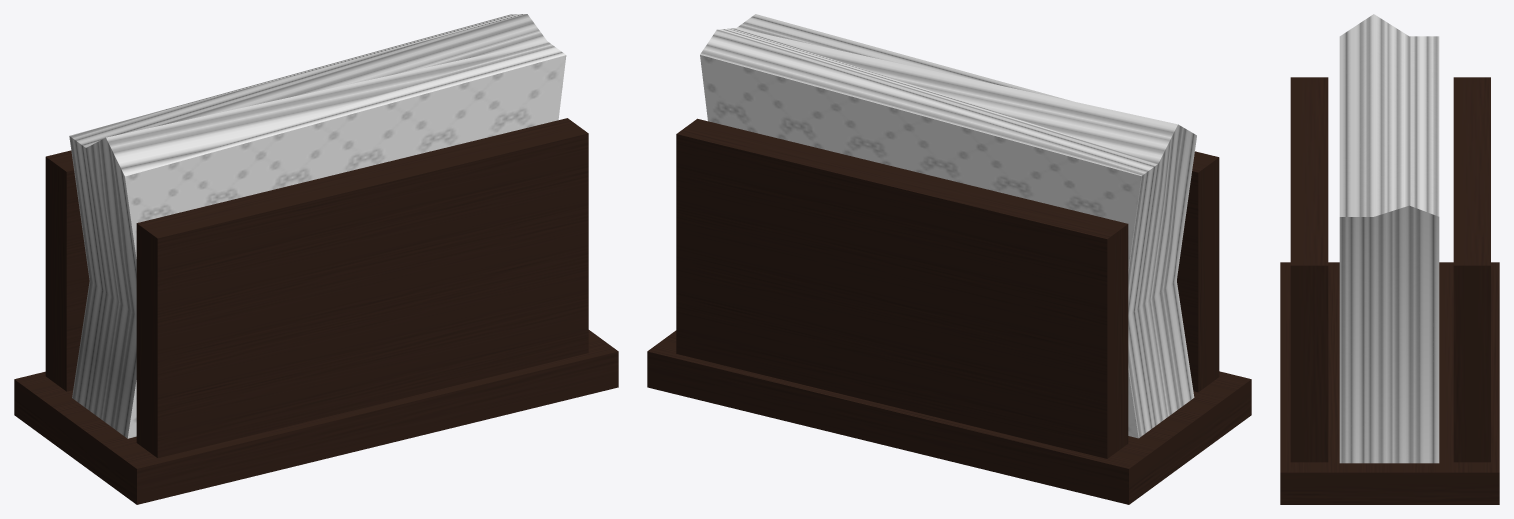
The model's file is Napkins_C.FBX.
The picture shows the model from 3 angles, left to right: view 1: azimuth 30°, elevation 25°; view 2: azimuth 150°, elevation 25°; view 3: azimuth 270°, elevation 25°; orthographic projection. The views are drawn at different scales.
Parts seen in each view (by area): view 1: Napkin_Holder; view 2: Napkin_Holder; view 3: Napkin_Holder.
Boxes of the visible parts, left/top/right/bottom form: Napkin_Holder: left=14, top=14, right=618, bottom=504; Napkin_Holder: left=647, top=14, right=1251, bottom=504; Napkin_Holder: left=1280, top=14, right=1499, bottom=504.
Size of the model in its own units: 56.41 by 36.39 by 24.88.
